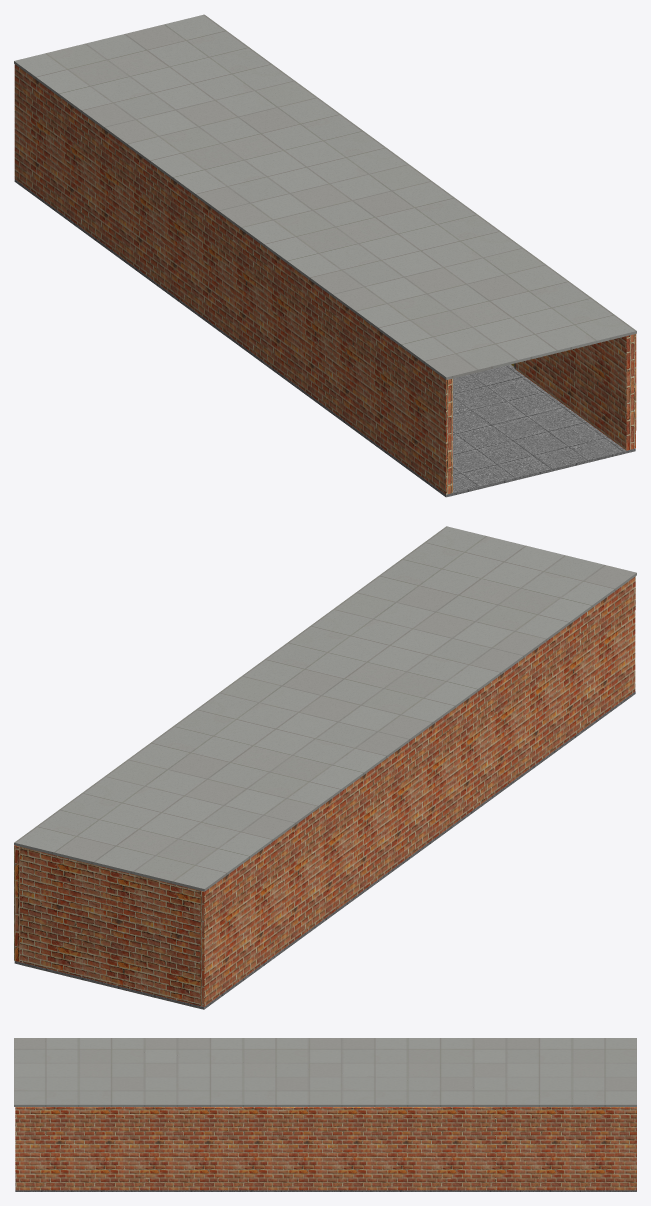
The model's file is maqueta_pasillo_version4.fbx.
3 views of the same model, one above another, from view 1: azimuth 30°, elevation 25°; view 2: azimuth 150°, elevation 25°; view 3: azimuth 270°, elevation 25° (orthographic). The views are drawn at different scales.
Parts seen in each view (by area): view 1: Techo, Paredes, Piso; view 2: Techo, Paredes, Piso; view 3: Paredes, Techo, Piso.
Boxes of the visible parts, x1,y1,x2,y2 form: Techo: (14, 14, 636, 379); Paredes: (14, 64, 636, 494); Piso: (14, 179, 635, 497); Techo: (14, 526, 636, 891); Paredes: (14, 576, 635, 1006); Piso: (14, 691, 635, 1009); Paredes: (15, 1107, 636, 1190); Techo: (14, 1038, 636, 1106); Piso: (15, 1172, 636, 1191).
Bounding box in the file's own units: 1156 × 710 × 4540.
Materials: 7 (6 with a texture image).
